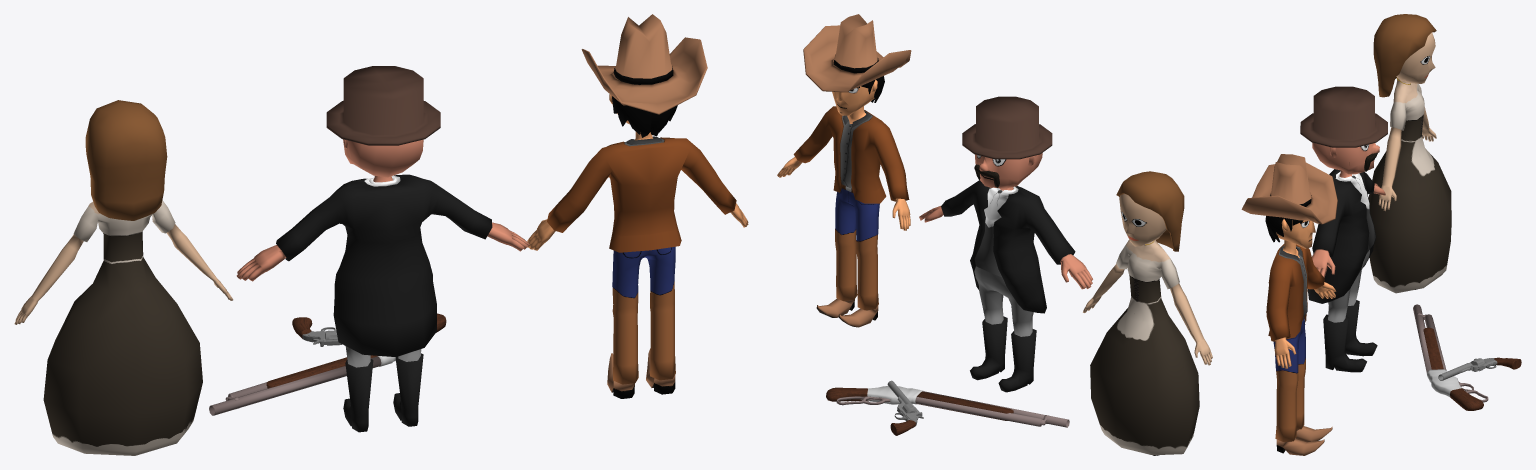
Rendered from saloon.glb.
3 views of the same model, side by side, from view 1: azimuth 30°, elevation 25°; view 2: azimuth 150°, elevation 25°; view 3: azimuth 270°, elevation 25° (orthographic). The views are drawn at different scales.
Parts seen in each view (by area): view 1: saloon standoff; view 2: saloon standoff; view 3: saloon standoff.
Part boxes in pixels (bbox=[...]): saloon standoff: bbox=[14, 14, 748, 455]; saloon standoff: bbox=[777, 14, 1212, 455]; saloon standoff: bbox=[1241, 14, 1521, 455].
Bounding box in the file's own units: 6.7 × 3.72 × 3.31.
8 materials, 6 textured.
